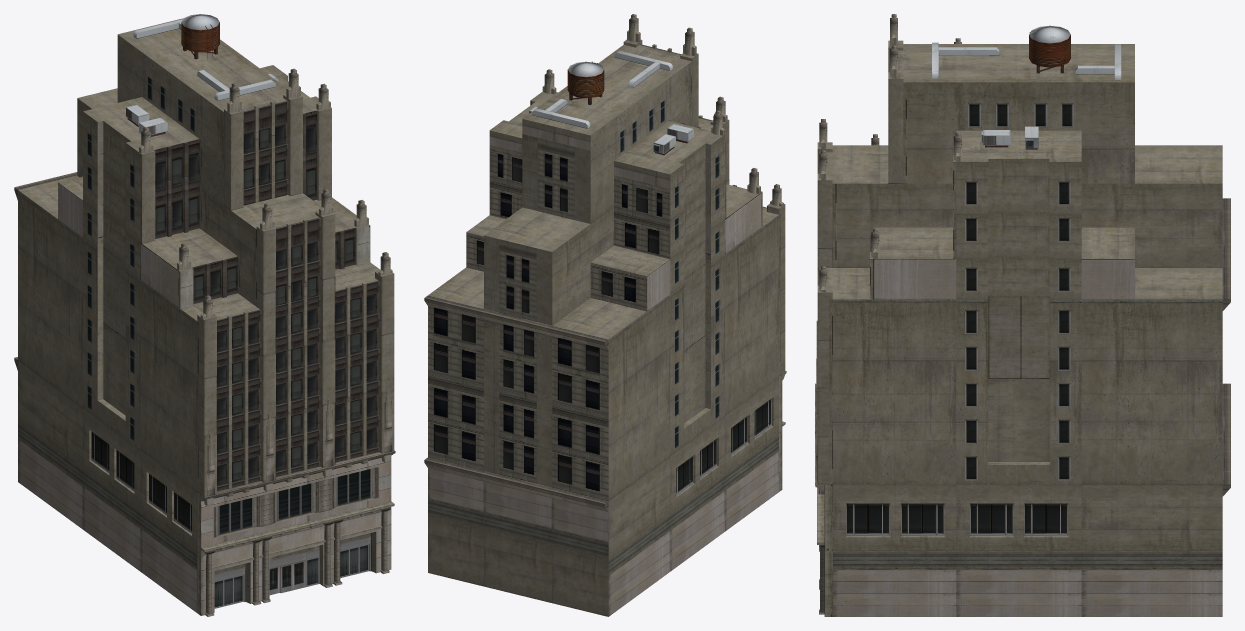
File: tutorial_building1.gltf
The picture shows the model from 3 angles, left to right: view 1: azimuth 30°, elevation 25°; view 2: azimuth 150°, elevation 25°; view 3: azimuth 270°, elevation 25°; orthographic projection. The views are drawn at different scales.
Parts seen in each view (by area): view 1: building1; view 2: building1; view 3: building1.
Boxes of the visible parts, x1=… form: building1: x1=14, y1=14, x2=395, y2=616; building1: x1=424, y1=14, x2=786, y2=616; building1: x1=815, y1=14, x2=1230, y2=616.
Size of the model in its own units: 18.74 by 46.86 by 32.59.
3 materials, 3 textured.
